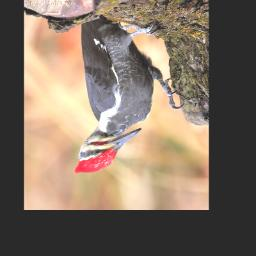Woodpecker: (74, 16, 185, 175)
